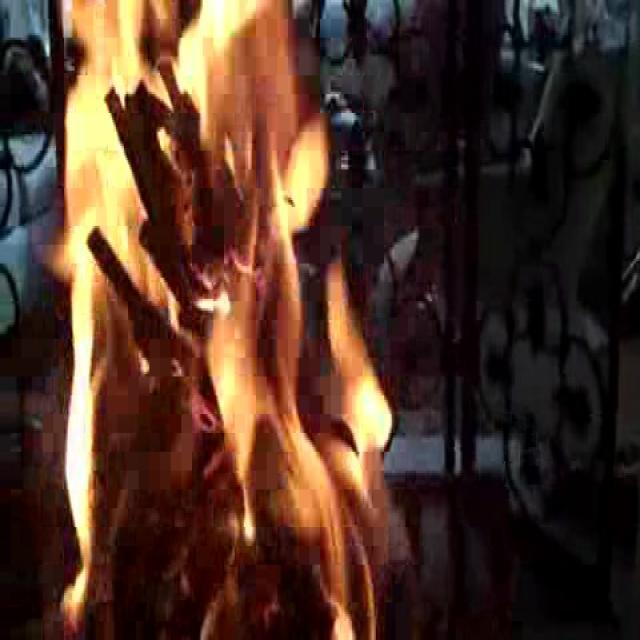fire: (52, 7, 381, 603)
